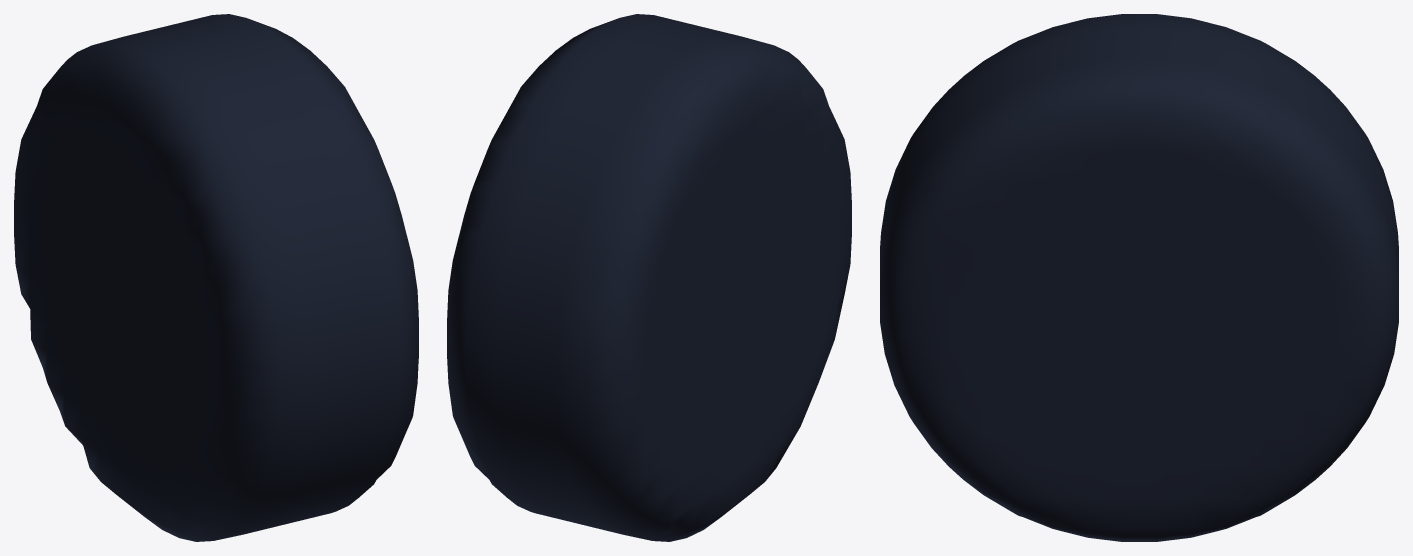
File: 046_left_beamforming_microphone_port_1.glb
3 renders of one model, left to right at view 1: azimuth 30°, elevation 25°; view 2: azimuth 150°, elevation 25°; view 3: azimuth 270°, elevation 25°, orthographic.
Parts seen in each view (by area): view 1: 046 | Left Beamforming Microphone Port 1; view 2: 046 | Left Beamforming Microphone Port 1; view 3: 046 | Left Beamforming Microphone Port 1.
Part boxes in pixels (x1,y1,x2,y2): 046 | Left Beamforming Microphone Port 1: (14, 14, 418, 541); 046 | Left Beamforming Microphone Port 1: (447, 14, 851, 541); 046 | Left Beamforming Microphone Port 1: (880, 14, 1398, 541).
Bounding box in the file's own units: 0.0005 × 0.0012 × 0.0012.
